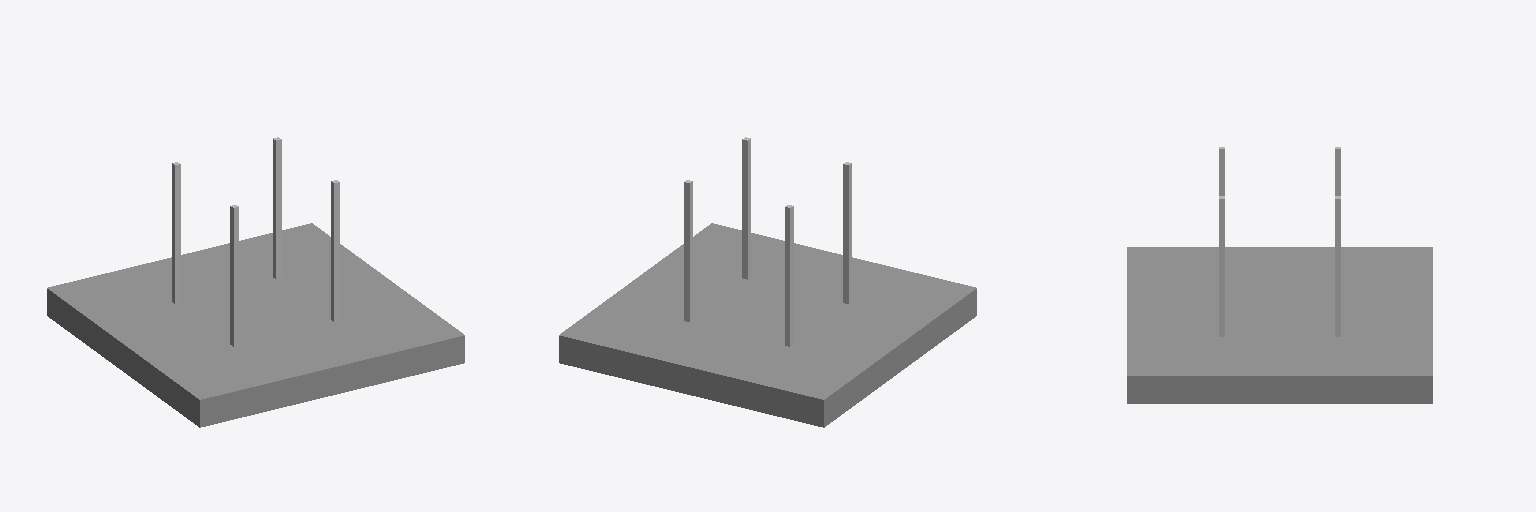
Rendered from floor_with_scaffold_1.obj.
3 renders of one model, left to right at view 1: azimuth 30°, elevation 25°; view 2: azimuth 150°, elevation 25°; view 3: azimuth 270°, elevation 25°, orthographic.
Visible parts, largest first — view 1: Cube, Cube.001_Cube.005; view 2: Cube, Cube.001_Cube.005; view 3: Cube, Cube.001_Cube.005.
Part boxes in pixels (left/top/right/bottom): Cube: left=47, top=223, right=464, bottom=427; Cube.001_Cube.005: left=172, top=137, right=339, bottom=346; Cube: left=559, top=223, right=976, bottom=427; Cube.001_Cube.005: left=684, top=137, right=851, bottom=346; Cube: left=1127, top=247, right=1432, bottom=403; Cube.001_Cube.005: left=1219, top=147, right=1340, bottom=336.
Bounding box in the file's own units: 10 × 6 × 10.